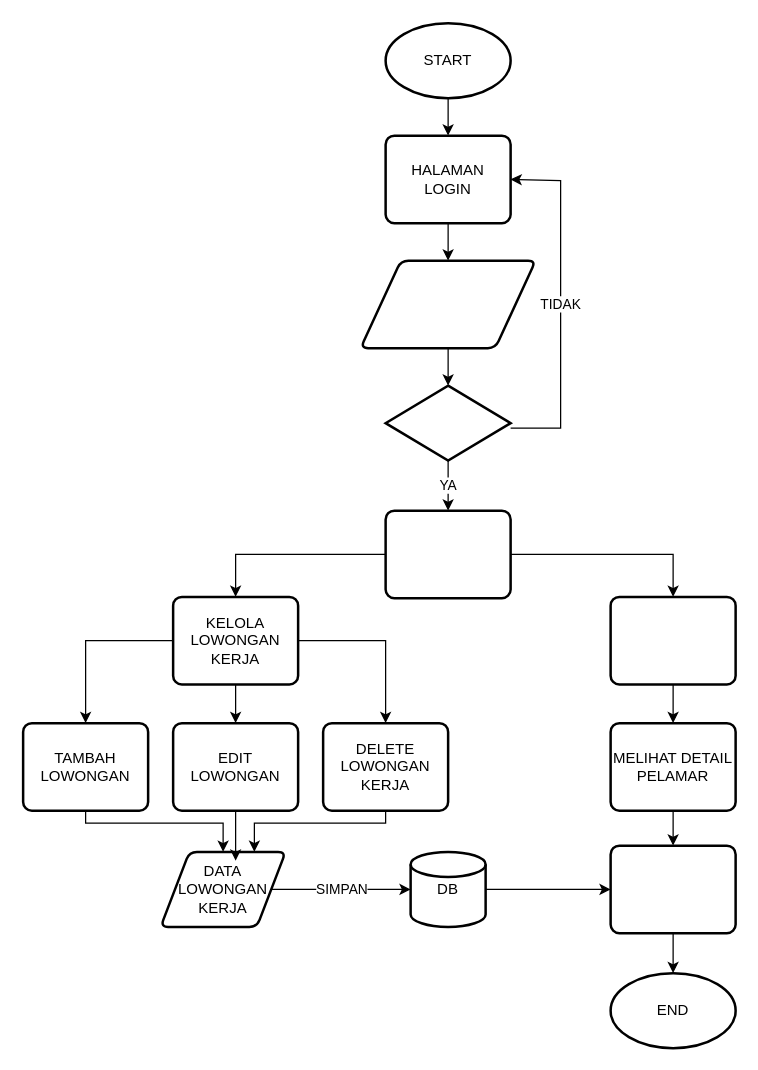
The diagram is 758 pixels wide and 1070 high, and some of its shapes have lost their labels. The box of each missing label's shape, as (x1, y1, x2, y2) in pixels:
BERHASIL ?: (384, 384, 511, 461)
HALAMAN ADMINISTRATOR: (384, 509, 511, 599)
KELOLA PELAMAR: (609, 595, 736, 685)
LOGOUT: (609, 844, 736, 934)
MASUKAN USERNAME DAN PASSWORD: (359, 259, 536, 349)
